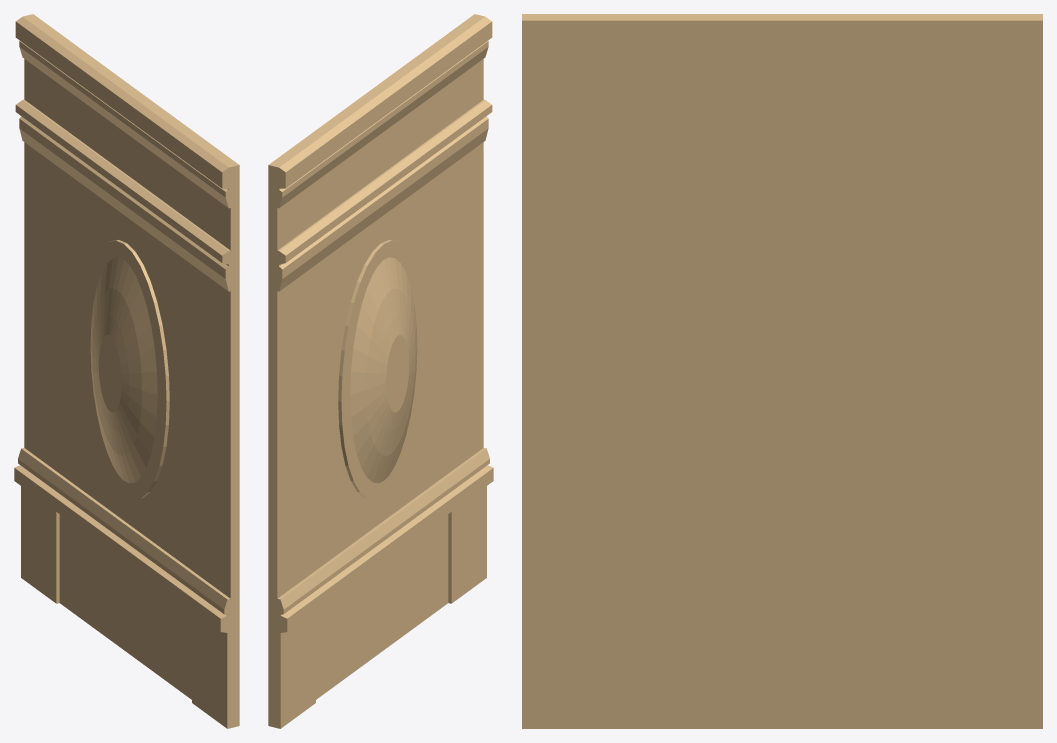
Rendered from Wall_deco.fbx.
3 views of the same model, side by side, from view 1: azimuth 30°, elevation 25°; view 2: azimuth 150°, elevation 25°; view 3: azimuth 270°, elevation 25° (orthographic). The views are drawn at different scales.
Visible parts, largest first — view 1: Wall_deco; view 2: Wall_deco; view 3: Wall_deco.
Boxes of the visible parts, bbox=[...] form: Wall_deco: bbox=[14, 14, 239, 728]; Wall_deco: bbox=[268, 14, 493, 728]; Wall_deco: bbox=[522, 14, 1042, 728].
Bounding box in the file's own units: 14.65 × 200 × 300.
